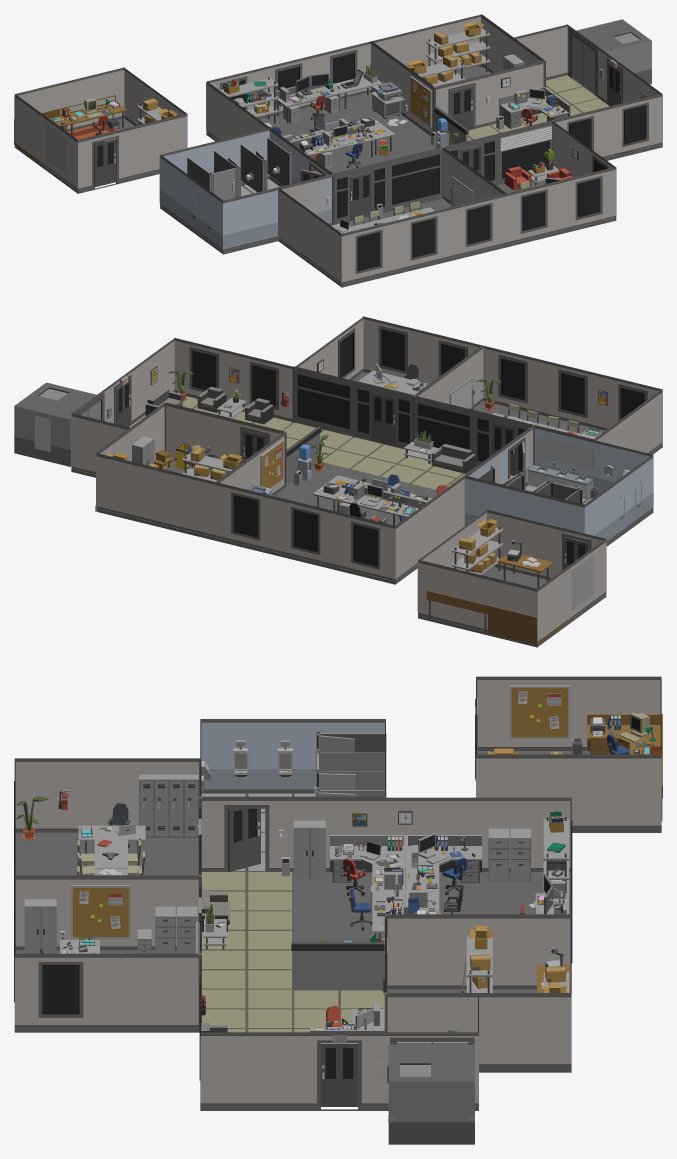
File: Office.gltf
The picture shows the model from 3 angles, top to bottom: view 1: azimuth 30°, elevation 25°; view 2: azimuth 150°, elevation 25°; view 3: azimuth 270°, elevation 25°; orthographic projection. The views are drawn at different scales.
Visible parts, largest first — view 1: office.obj_1; view 2: office.obj_1; view 3: office.obj_1.
Part boxes in pixels (box(x1,y1,x2,y2)): office.obj_1: box(14, 14, 662, 287); office.obj_1: box(14, 316, 662, 647); office.obj_1: box(14, 676, 662, 1144).
Bounding box in the file's own units: 49.51 × 5.15 × 34.94.
Materials: 1 (1 with a texture image).
